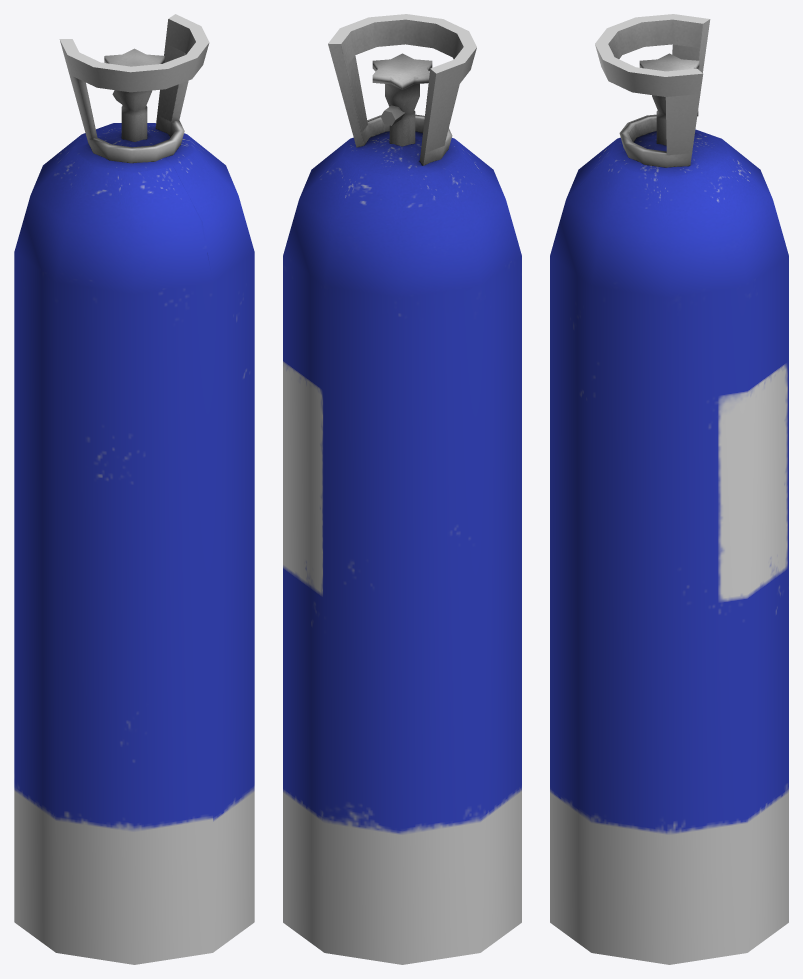
File: gasCylinder.fbx
3 views of the same model, side by side, from view 1: azimuth 30°, elevation 25°; view 2: azimuth 150°, elevation 25°; view 3: azimuth 270°, elevation 25° (orthographic).
Visible parts, largest first — view 1: gasCylinder; view 2: gasCylinder; view 3: gasCylinder.
Boxes of the visible parts, box(x1,y1,x2,y2) form: gasCylinder: box(14, 14, 254, 964); gasCylinder: box(283, 14, 521, 964); gasCylinder: box(550, 14, 788, 964).
Size of the model in its own units: 0.1657 by 0.6744 by 0.1682.
